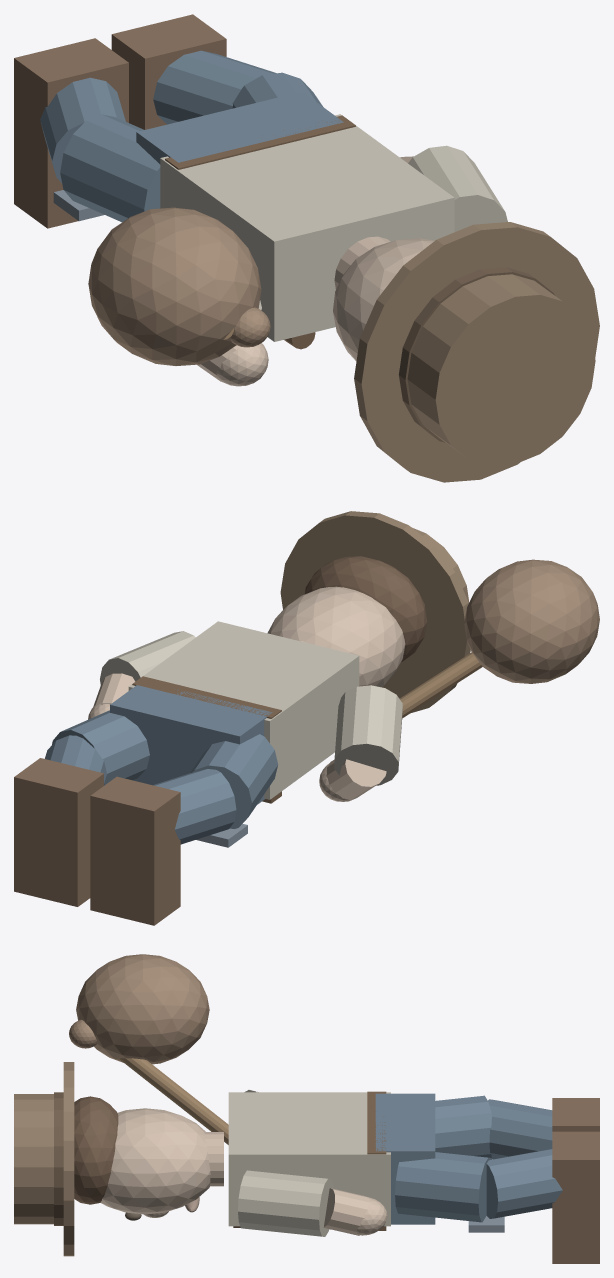
Rendered from George_walk_06.glb.
The picture shows the model from 3 angles, top to bottom: view 1: azimuth 30°, elevation 25°; view 2: azimuth 150°, elevation 25°; view 3: azimuth 270°, elevation 25°; orthographic projection. The views are drawn at different scales.
Parts seen in each view (by area): view 1: worn_cream_work_shirt, hat_crown, tied_cloth_bindle, weathered_felt_hat_brim, work_boot_-1, denim_thigh_-1, faded_blue_denim_waist, work_boot_1, denim_calf_1, fair_skin_face, rolled_shirt_sleeve_1, denim_calf_-1 (+7 smaller); view 2: worn_cream_work_shirt, tied_cloth_bindle, weathered_felt_hat_brim, work_boot_-1, work_boot_1, faded_blue_denim_waist, fair_skin_face, rolled_shirt_sleeve_-1, short_brown_hair, denim_thigh_-1, denim_calf_-1, denim_thigh_1 (+7 smaller); view 3: worn_cream_work_shirt, tied_cloth_bindle, fair_skin_face, work_boot_1, denim_thigh_1, hat_crown, rolled_shirt_sleeve_1, faded_blue_denim_waist, denim_calf_1, short_brown_hair, denim_thigh_-1, denim_calf_-1 (+10 smaller).
Boxes of the visible parts, x1,y1,x2,y2 form: worn_cream_work_shirt: (160, 114, 454, 341); hat_crown: (407, 274, 595, 465); tied_cloth_bindle: (88, 207, 261, 365); weathered_felt_hat_brim: (354, 222, 599, 482); work_boot_-1: (14, 38, 128, 228); denim_thigh_-1: (60, 114, 160, 222); faded_blue_denim_waist: (136, 91, 343, 164); work_boot_1: (111, 14, 226, 129); denim_calf_1: (153, 50, 276, 124); fair_skin_face: (333, 238, 434, 361); rolled_shirt_sleeve_1: (408, 145, 507, 231); denim_calf_-1: (40, 77, 125, 183); worn_cream_work_shirt: (128, 621, 359, 799); tied_cloth_bindle: (464, 559, 599, 683); weathered_felt_hat_brim: (280, 511, 470, 712); work_boot_-1: (90, 776, 180, 925); work_boot_1: (14, 758, 103, 906); faded_blue_denim_waist: (110, 685, 272, 804); fair_skin_face: (267, 586, 405, 687); rolled_shirt_sleeve_-1: (334, 685, 402, 785); short_brown_hair: (304, 556, 427, 662); denim_thigh_-1: (190, 734, 278, 828); denim_calf_-1: (153, 769, 236, 844); denim_thigh_1: (52, 710, 149, 785); worn_cream_work_shirt: (228, 1092, 390, 1226); tied_cloth_bindle: (76, 954, 209, 1064); fair_skin_face: (100, 1108, 210, 1214); work_boot_1: (552, 1131, 599, 1263); denim_thigh_1: (395, 1152, 491, 1222); hat_crown: (14, 1094, 53, 1224); rolled_shirt_sleeve_1: (238, 1170, 333, 1236); faded_blue_denim_waist: (375, 1093, 435, 1224); denim_calf_1: (486, 1149, 562, 1218); short_brown_hair: (74, 1096, 118, 1204); denim_thigh_-1: (435, 1095, 491, 1158); denim_calf_-1: (488, 1099, 552, 1159).
Bounding box in the file's own units: 1.72 × 0.93 × 2.46.
